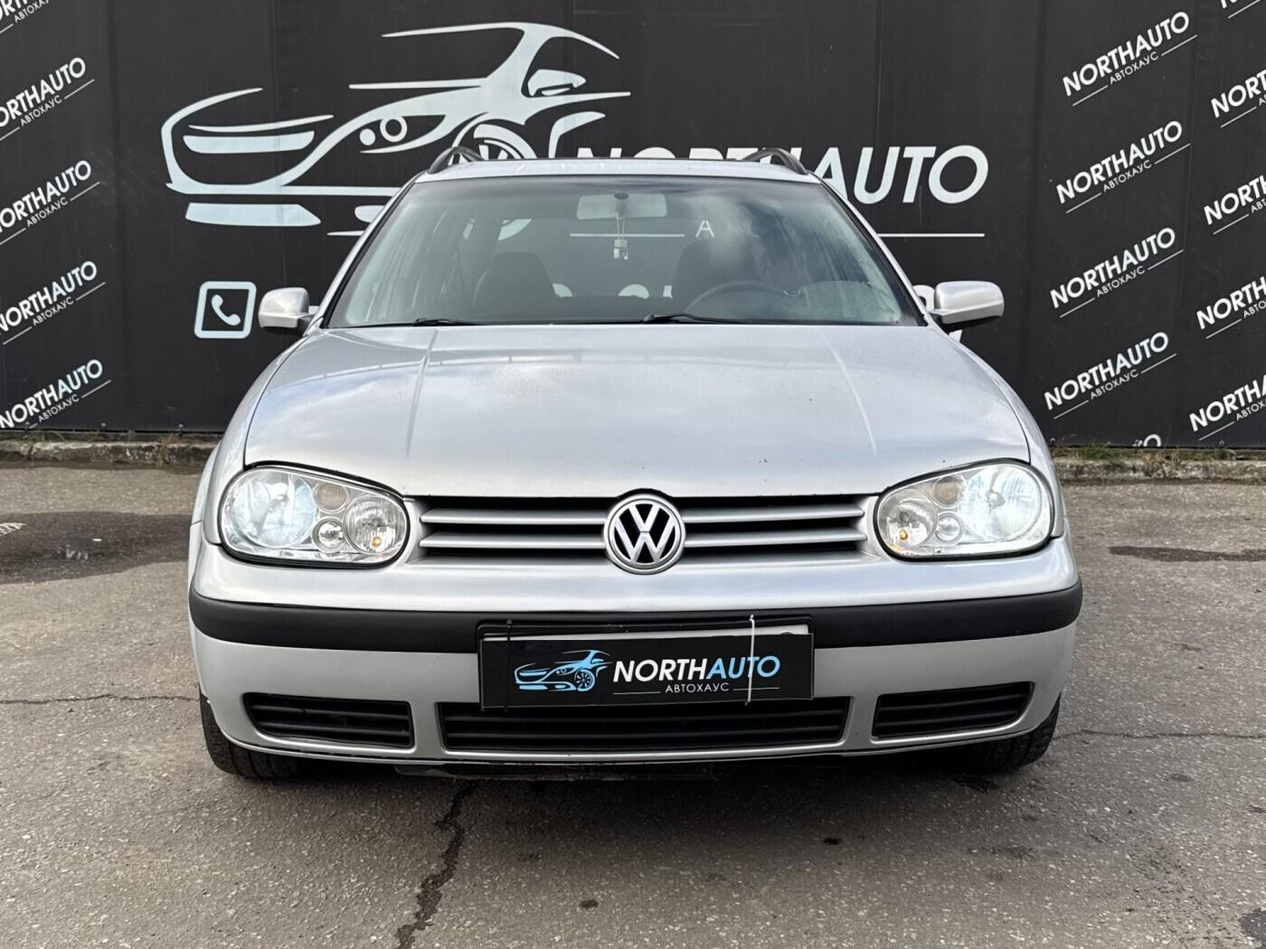Golf_1997-2006: (183, 140, 1080, 786)
